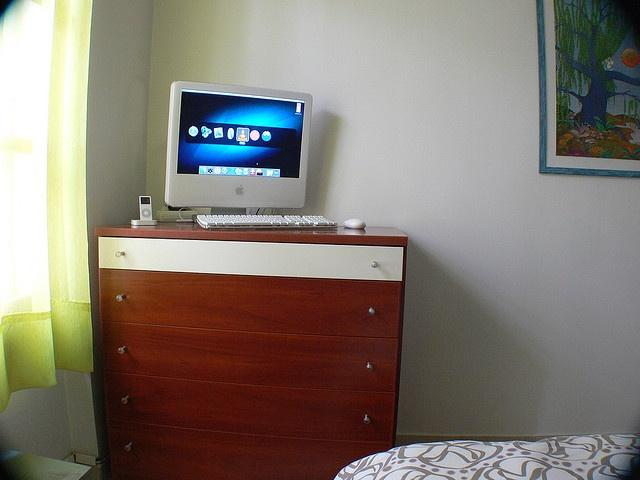AIO PC-Monitor-TV: (162, 79, 312, 213)
